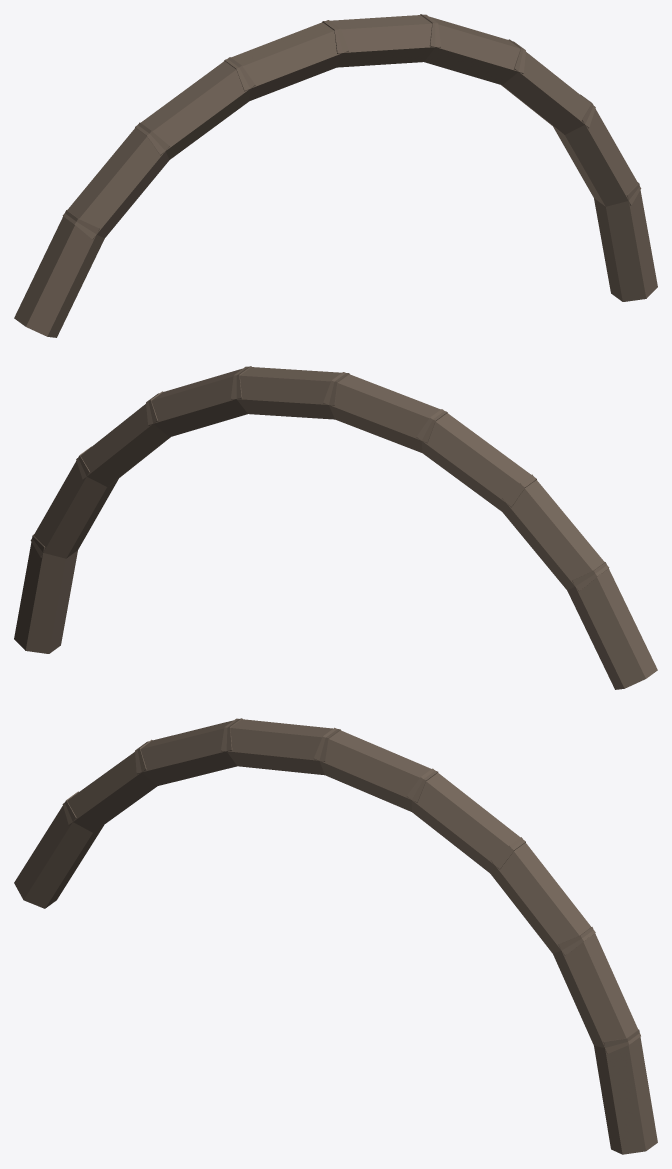
The model's file is Bow.fbx.
The picture shows the model from 3 angles, top to bottom: view 1: azimuth 30°, elevation 25°; view 2: azimuth 150°, elevation 25°; view 3: azimuth 330°, elevation 25°; orthographic projection.
Visible parts, largest first — view 1: Bow; view 2: Bow; view 3: Bow.
Boxes of the visible parts, x1,y1,x2,y2 form: Bow: (14, 14, 657, 337); Bow: (14, 366, 657, 689); Bow: (14, 718, 657, 1154).
Bounding box in the file's own units: 30.7 × 15.9 × 2.
